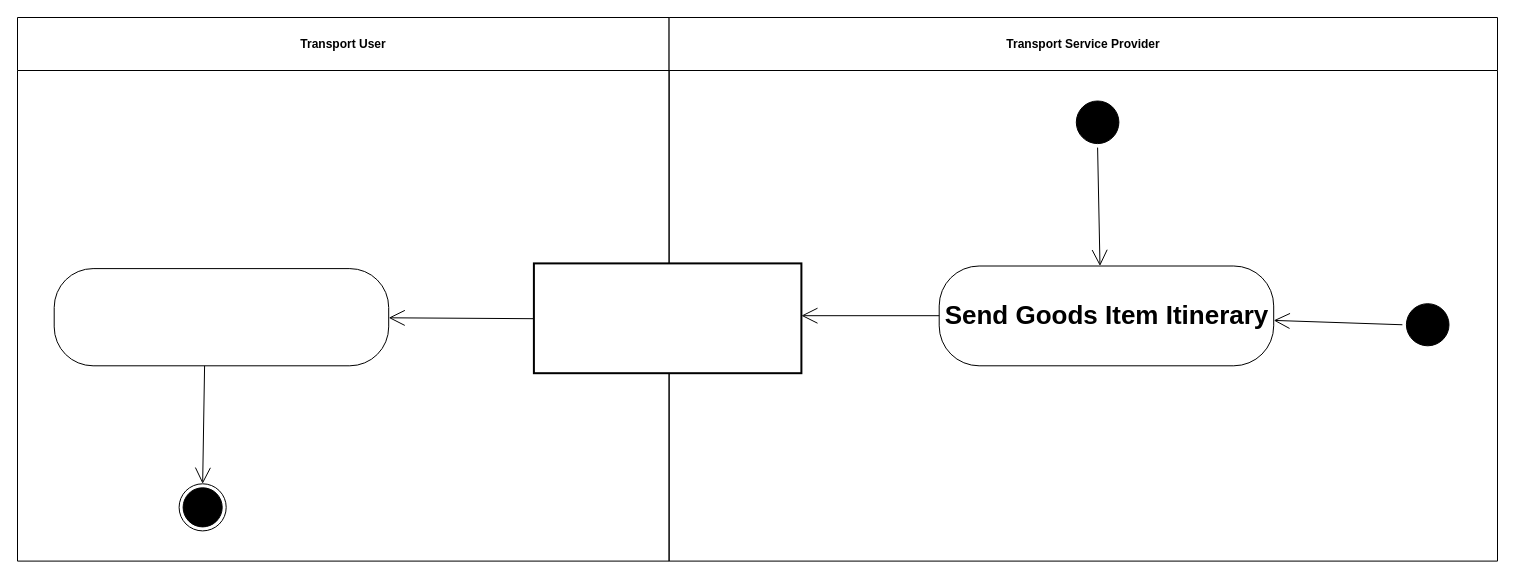
Some shapes in this 1515 by 579 pixel diagram are drawn without their labels. Each missing label, with the centre of its shape:
"Goods Item Itinerary" goes at (667,318).
"Receive Goods Item Itinerary" goes at (221,317).
